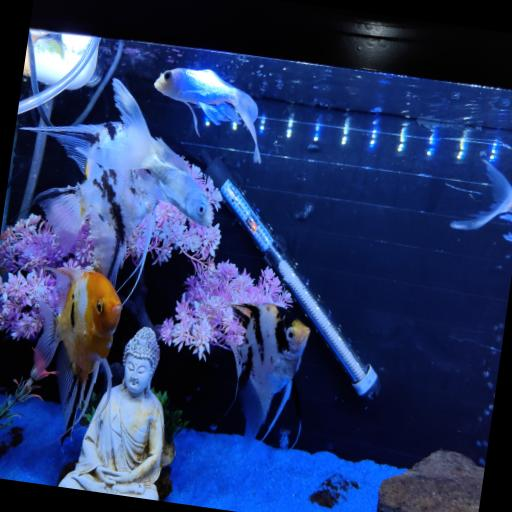Fish: (23, 79, 211, 226), (33, 160, 156, 285), (30, 268, 121, 432), (232, 304, 309, 443), (154, 68, 260, 162), (450, 161, 511, 230), (31, 31, 91, 85)
